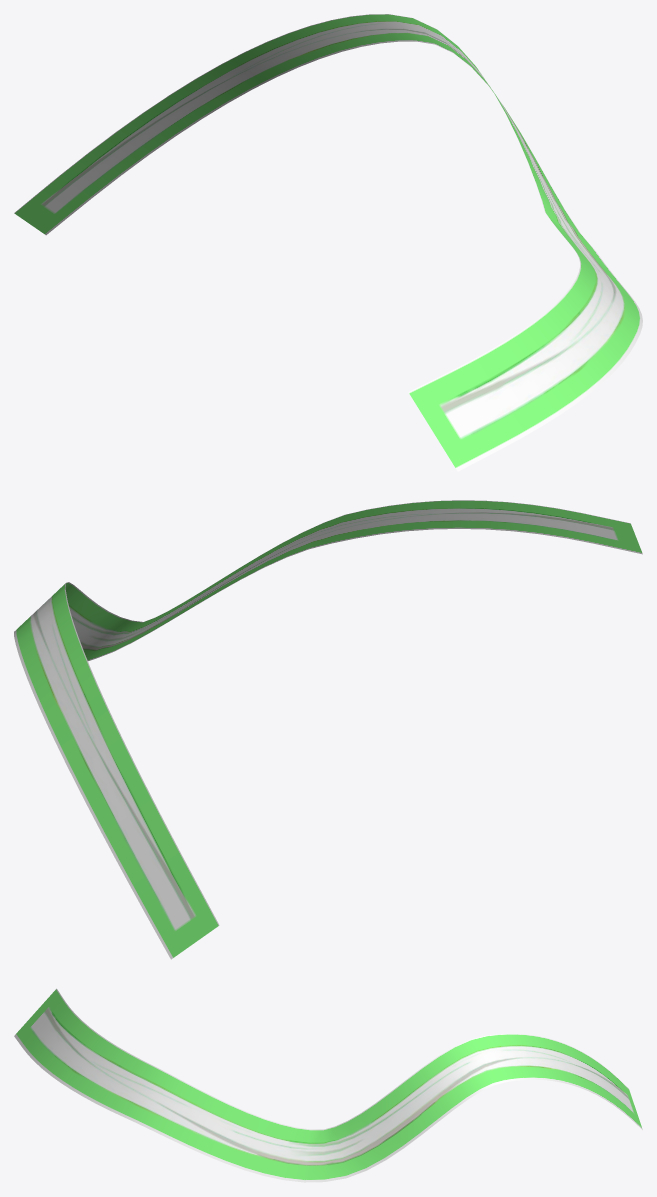
File: piaodai_3.FBX
3 renders of one model, top to bottom at view 1: azimuth 30°, elevation 25°; view 2: azimuth 150°, elevation 25°; view 3: azimuth 270°, elevation 25°, orthographic. The views are drawn at different scales.
Visible parts, largest first — view 1: Plane003; view 2: Plane003; view 3: Plane003.
Boxes of the visible parts, x1,y1,x2,y2 form: Plane003: (14,14,642,471); Plane003: (14,500,642,959); Plane003: (14,988,642,1182).
Size of the model in its own units: 110 by 68.27 by 228.
